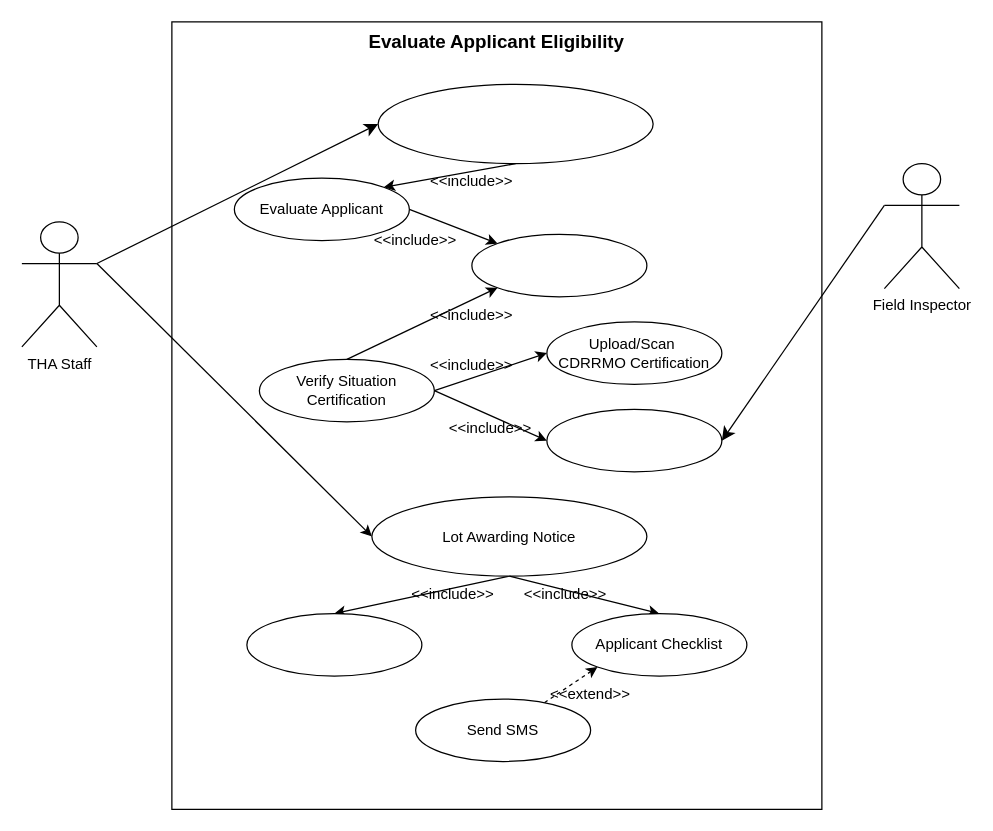
Some shapes in this 993 by 831 pixel diagram are drawn without their labels. The centre of each missing label's shape, as x and y in pixels:
Award Lot: pixel 334 644
Evaluation and Eligibility: pixel 515 123
Evaluation Checklist: pixel 559 265
Upload/Scan Applicant Condition: pixel 634 440
